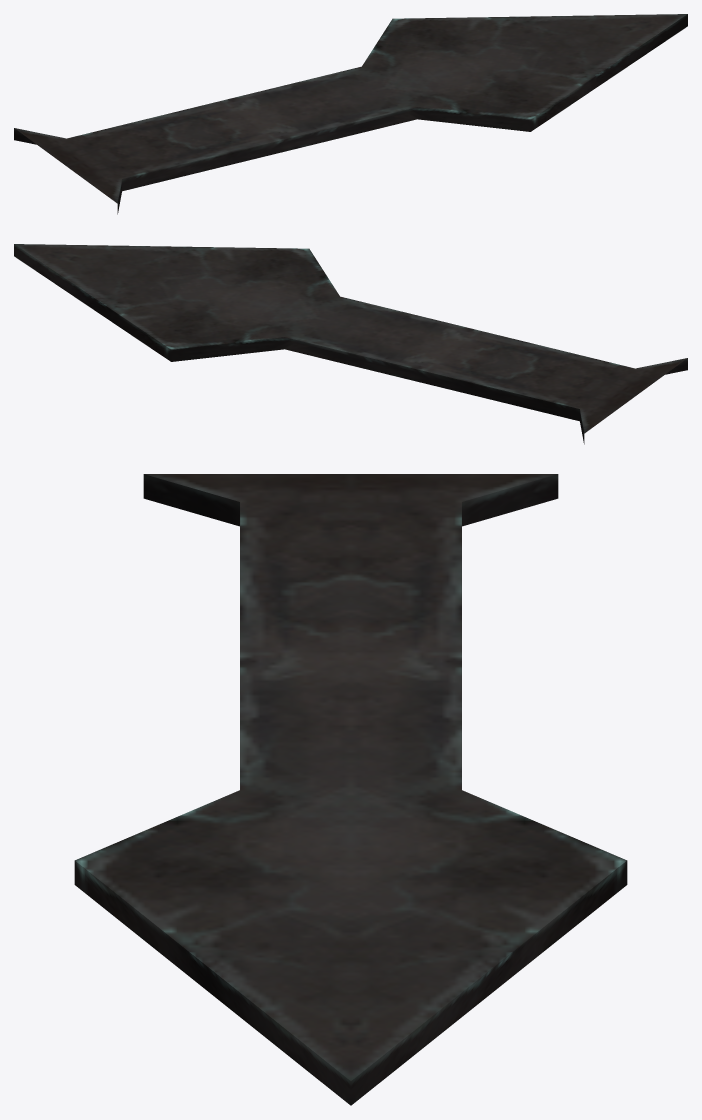
File: common_underground_tiepi01.FBX
3 renders of one model, top to bottom at view 1: azimuth 30°, elevation 25°; view 2: azimuth 150°, elevation 25°; view 3: azimuth 270°, elevation 25°, orthographic. The views are drawn at different scales.
Parts seen in each view (by area): view 1: common_underground_tiepi01; view 2: common_underground_tiepi01; view 3: common_underground_tiepi01.
Part boxes in pixels (<box>): common_underground_tiepi01: <box>14,14,687,214</box>; common_underground_tiepi01: <box>14,244,687,444</box>; common_underground_tiepi01: <box>74,474,627,1105</box>.
Size of the model in its own units: 4.84 by 0.0912 by 1.86.
